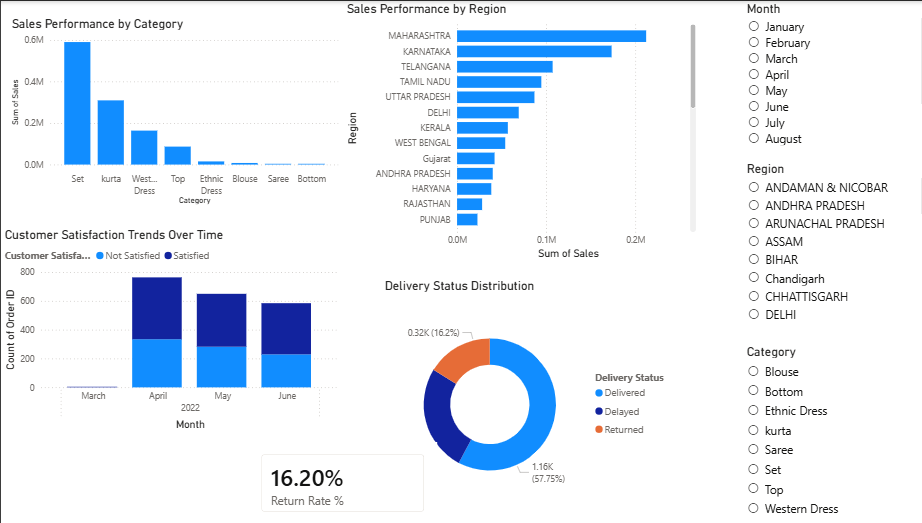

What the dashboard file says about the page in this screenshot:
{"tool":"powerbi","page":{"name":"Page 1","canvas":[1280,720],"ordinal":0},"visuals":[{"type":"clusteredColumnChart","title":"Sales Performance by Category","fields":{"Category":["Amazon Sale Rep Sample.Category"],"Y":["Sum(Amazon Sale Rep Sample.Sales)"]},"box":[10.3,20.6,459.9,264.5],"z":0},{"type":"clusteredBarChart","title":"Sales Performance by Region","fields":{"Category":["Amazon Sale Rep Sample.Region"],"Y":["Sum(Amazon Sale Rep Sample.Sales)"]},"box":[470.2,0,490.8,360],"z":1000},{"type":"columnChart","title":"Customer Satisfaction Trends Over Time","fields":{"Category":["Amazon Sale Rep Sample.Date.Variation.Date Hierarchy.Year","Amazon Sale Rep Sample.Date.Variation.Date Hierarchy.Month"],"Y":["CountNonNull(Amazon Sale Rep Sample.Order ID)"],"Series":["Amazon Sale Rep Sample.Customer Satisfaction"]},"box":[0,311.5,470.2,285.1],"z":2000},{"type":"donutChart","title":"Delivery Status Distribution","fields":{"Category":["Amazon Sale Rep Sample.Delivery Status"],"Y":["CountNonNull(Amazon Sale Rep Sample.Order ID)"]},"box":[523.1,380.6,408.5,329.1],"z":3000},{"type":"cardVisual","fields":{"Data":["Amazon Sale Rep Sample.Return Rate %"]},"box":[340.9,606.9,258.6,113.1],"z":4000},{"type":"listSlicer","fields":{"Values":["Amazon Sale Rep Sample.Date.Variation.Date Hierarchy.Month"]},"box":[1021.3,0,259,208.2],"z":5000},{"type":"listSlicer","fields":{"Values":["Amazon Sale Rep Sample.Region"]},"box":[1021.3,219.7,259,234.4],"z":6000},{"type":"listSlicer","fields":{"Values":["Amazon Sale Rep Sample.Category"]},"box":[1021.3,472.1,259,247.5],"z":7000}]}

Visuals, with their boxes in screenshot pixels (x1, y1, x2, y2), scaled from the page's 1280x720 canvas onto the 922x523 screenshot:
"Sales Performance by Category" clusteredColumnChart: detection(7, 15, 339, 207)
"Sales Performance by Region" clusteredBarChart: detection(339, 0, 692, 262)
"Customer Satisfaction Trends Over Time" columnChart: detection(0, 226, 339, 433)
"Delivery Status Distribution" donutChart: detection(377, 276, 671, 516)
cardVisual - Amazon Sale Rep Sample.Return Rate %: detection(246, 441, 432, 522)
listSlicer - Amazon Sale Rep Sample.Date.Variation.Date Hierarchy.Month: detection(736, 0, 921, 151)
listSlicer - Amazon Sale Rep Sample.Region: detection(736, 160, 921, 330)
listSlicer - Amazon Sale Rep Sample.Category: detection(736, 343, 921, 522)
